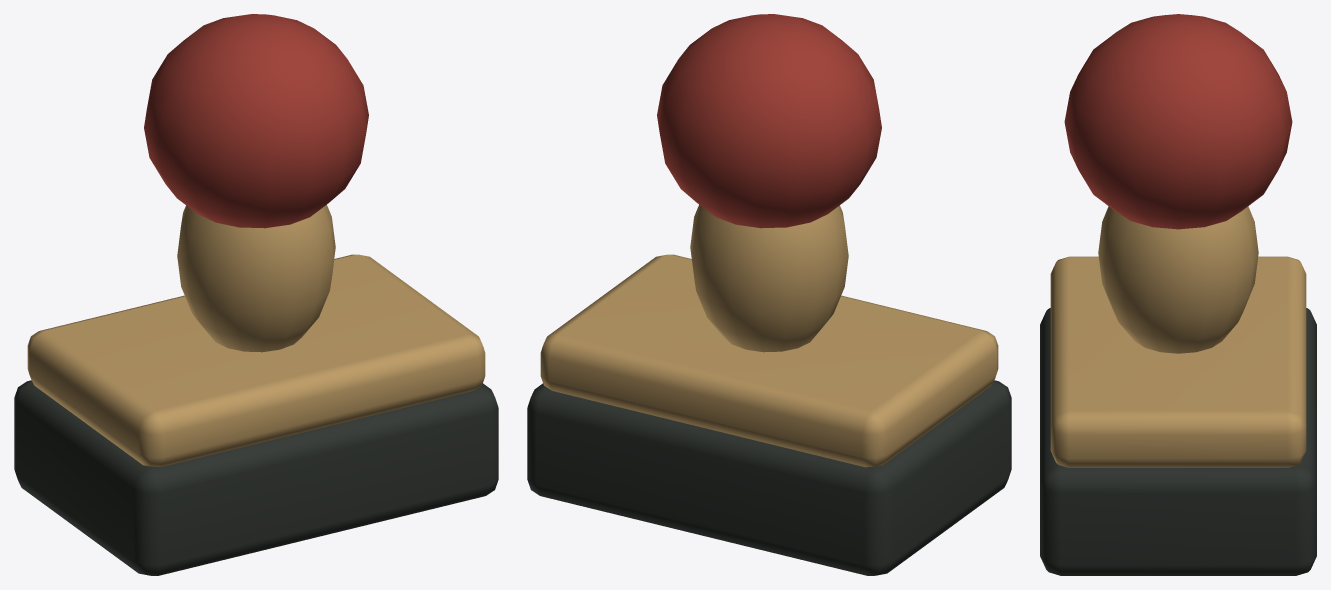
File: registry-stamp.glb
3 renders of one model, left to right at view 1: azimuth 30°, elevation 25°; view 2: azimuth 150°, elevation 25°; view 3: azimuth 270°, elevation 25°, orthographic.
Visible parts, largest first — view 1: RegistryStamp; view 2: RegistryStamp; view 3: RegistryStamp.
Part boxes in pixels (x1=…): RegistryStamp: x1=14, y1=14, x2=498, y2=575; RegistryStamp: x1=527, y1=14, x2=1011, y2=575; RegistryStamp: x1=1040, y1=14, x2=1316, y2=575.
Bounding box in the file's own units: 0.181 × 0.2235 × 0.119.
